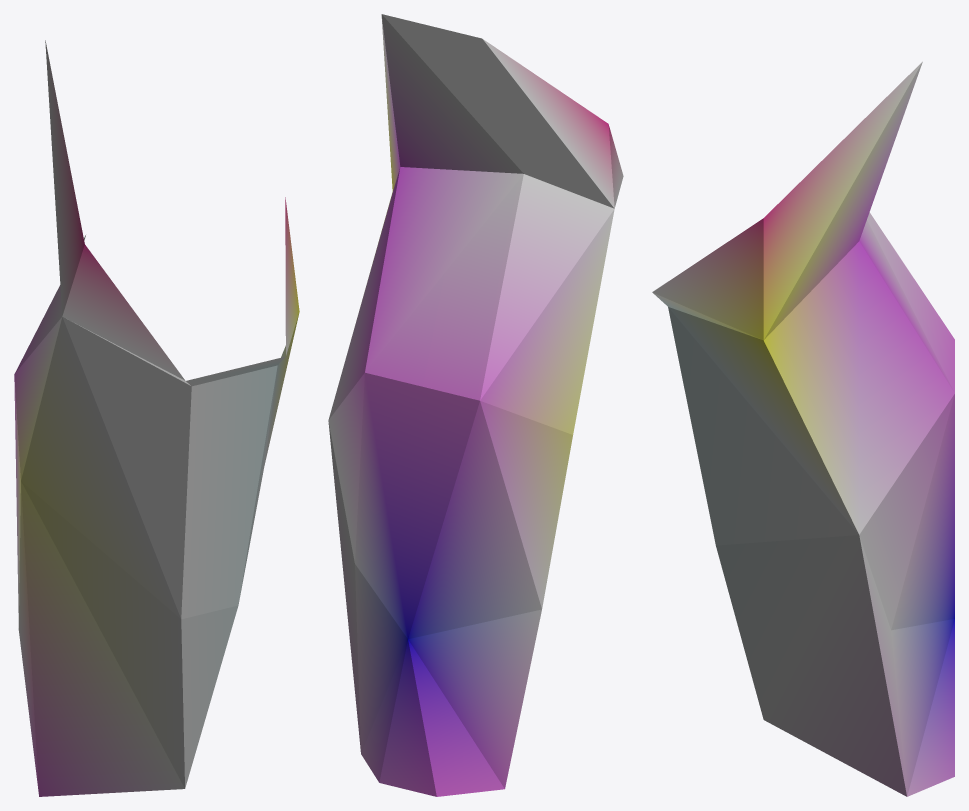
3 renders of one model, left to right at view 1: azimuth 30°, elevation 25°; view 2: azimuth 150°, elevation 25°; view 3: azimuth 270°, elevation 25°, orthographic. The views are drawn at different scales.
Parts seen in each view (by area): view 1: model_1107; view 2: model_1107; view 3: model_1107.
Part boxes in pixels (left/top/right/bottom): model_1107: left=14, top=40, right=299, bottom=796; model_1107: left=328, top=14, right=623, bottom=796; model_1107: left=652, top=61, right=954, bottom=796.
Bounding box in the file's own units: 17 × 50 × 19.
